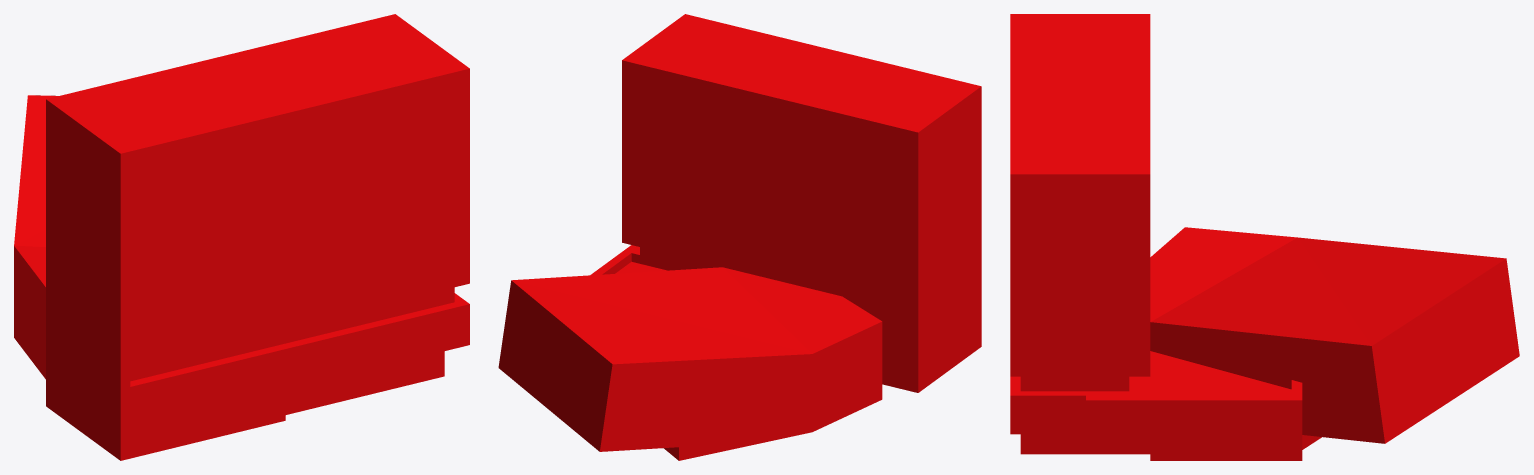
Rendered from taurofijo.dae.
3 renders of one model, left to right at view 1: azimuth 30°, elevation 25°; view 2: azimuth 150°, elevation 25°; view 3: azimuth 270°, elevation 25°, orthographic. The views are drawn at different scales.
Parts seen in each view (by area): view 1: group_0; view 2: group_0; view 3: group_0.
Boxes of the visible parts, left/top/right/bottom form: group_0: left=14, top=14, right=469, bottom=460; group_0: left=498, top=14, right=981, bottom=460; group_0: left=1010, top=14, right=1519, bottom=460.
Size of the model in its own units: 334 by 423 by 265.
